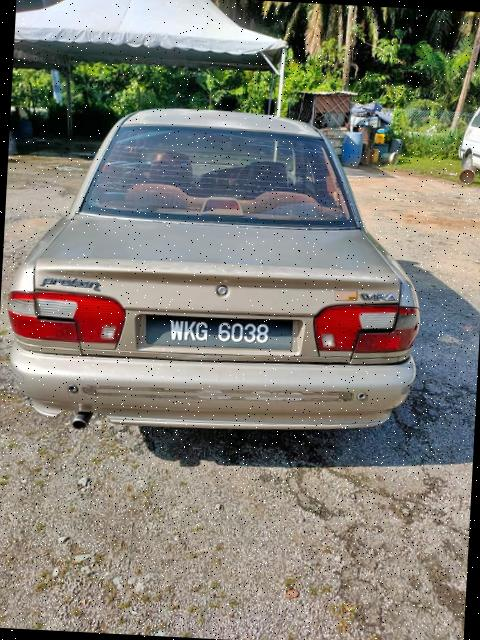License_Plate: (151, 315, 286, 354)
car: (1, 95, 434, 453)
